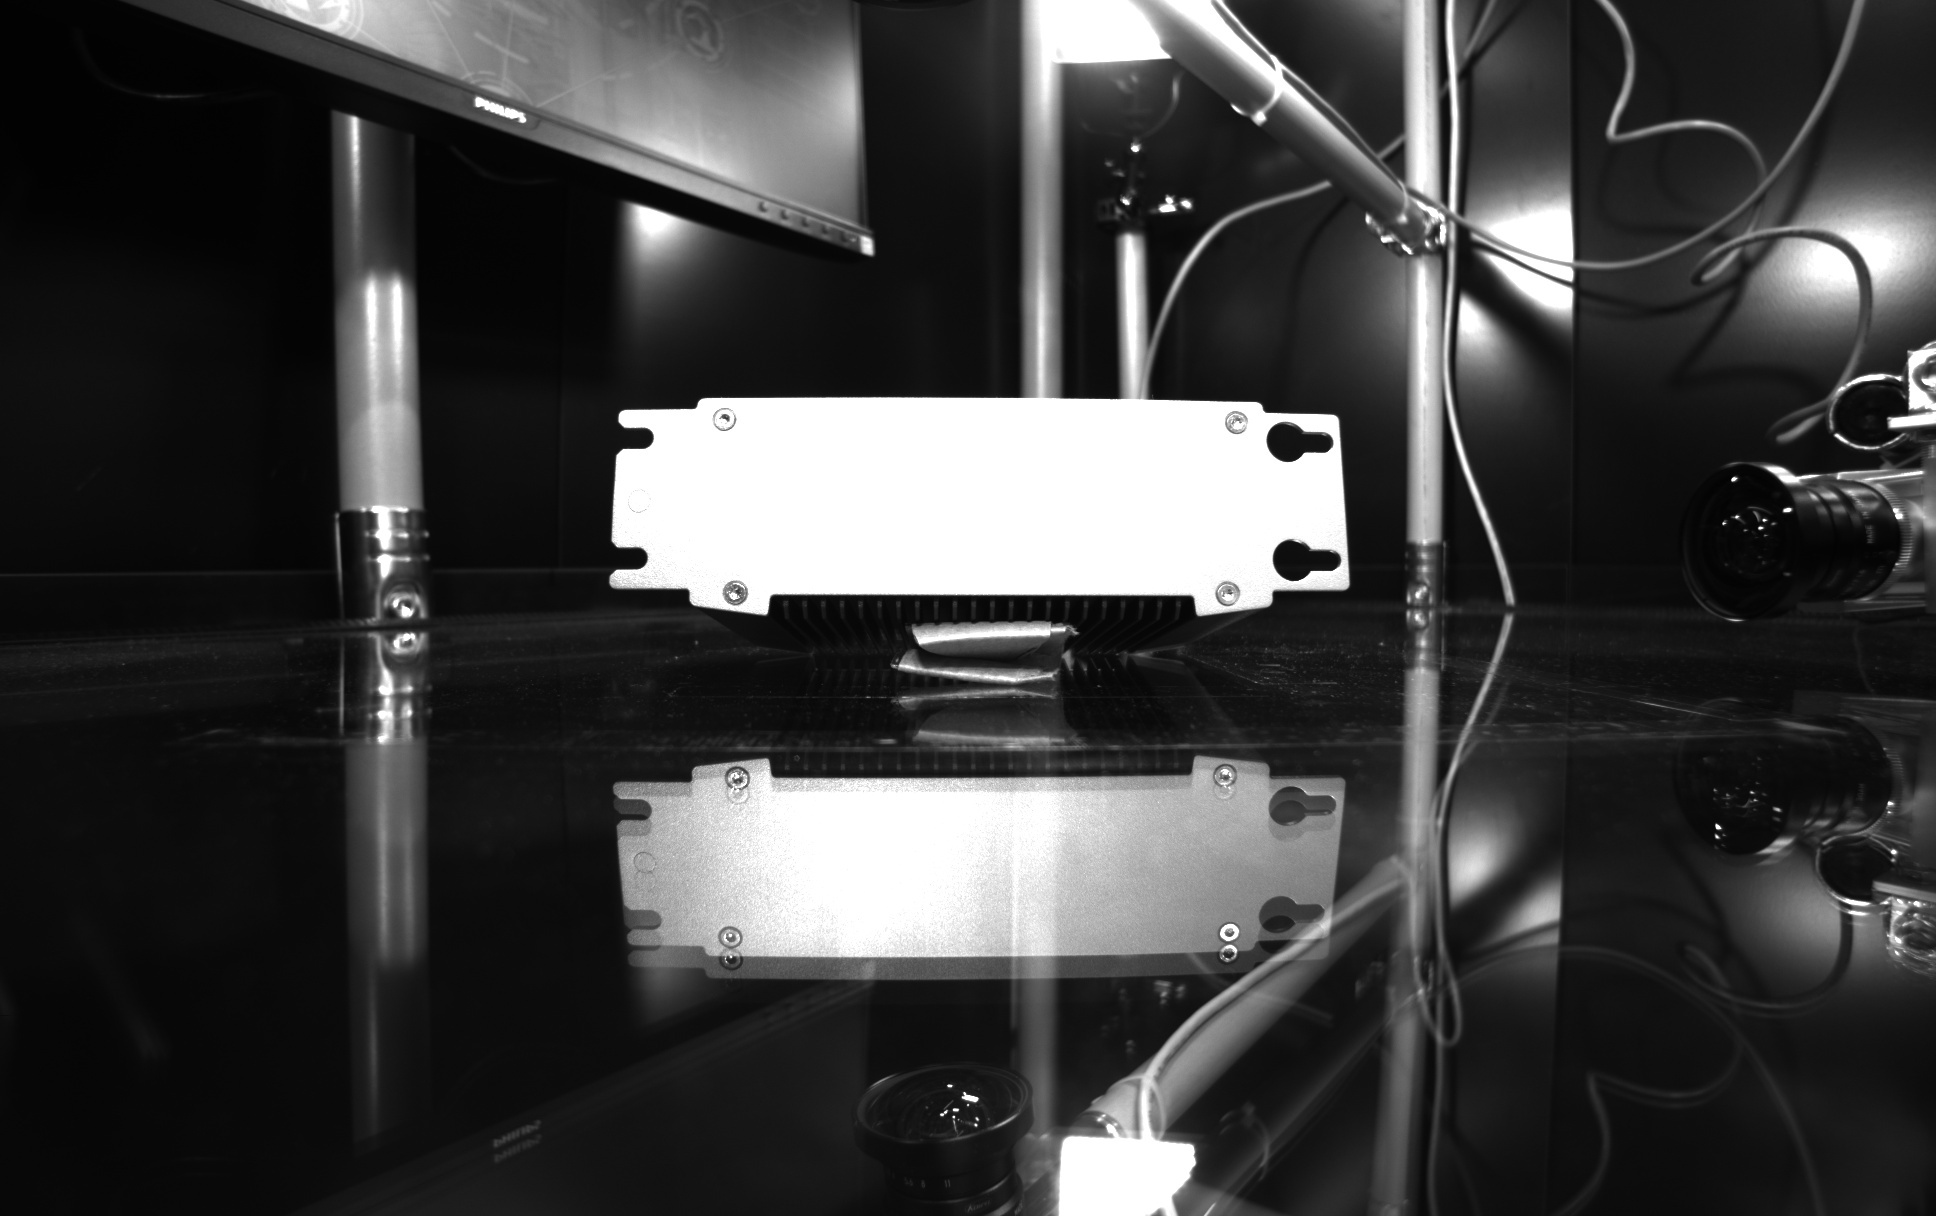CamBack: (590, 375, 1370, 621)
Schraube: (719, 573, 756, 609), (1212, 574, 1245, 609), (1220, 408, 1255, 440), (707, 403, 741, 436)
Schraube_gespiegelt: (713, 918, 749, 975), (1208, 758, 1244, 815), (719, 761, 755, 818), (1210, 913, 1247, 969)
